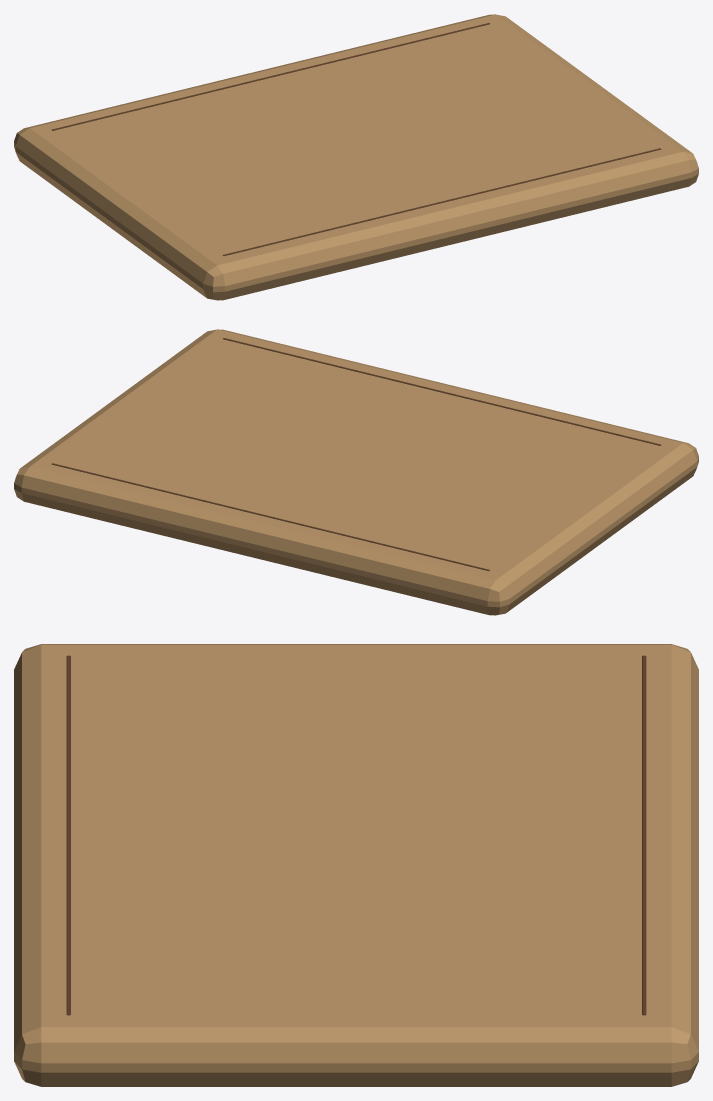
File: CuttingBoard.fbx
3 views of the same model, one above another, from view 1: azimuth 30°, elevation 25°; view 2: azimuth 150°, elevation 25°; view 3: azimuth 270°, elevation 25° (orthographic). The views are drawn at different scales.
Parts seen in each view (by area): view 1: CuttingBoard::Board, CuttingBoard::JuiceGroove-1, CuttingBoard::JuiceGroove1; view 2: CuttingBoard::Board, CuttingBoard::JuiceGroove1, CuttingBoard::JuiceGroove-1; view 3: CuttingBoard::Board, CuttingBoard::JuiceGroove-1, CuttingBoard::JuiceGroove1.
Part boxes in pixels (x1,y1,x2,y2): CuttingBoard::Board: (14,14,698,300); CuttingBoard::JuiceGroove-1: (223,148,661,255); CuttingBoard::JuiceGroove1: (52,23,489,130); CuttingBoard::Board: (14,329,698,615); CuttingBoard::JuiceGroove1: (51,463,489,570); CuttingBoard::JuiceGroove-1: (223,338,660,445); CuttingBoard::Board: (14,644,698,1086); CuttingBoard::JuiceGroove-1: (66,655,70,1015); CuttingBoard::JuiceGroove1: (642,655,646,1015).
Bounding box in the file's own units: 28 × 1.94 × 20.
